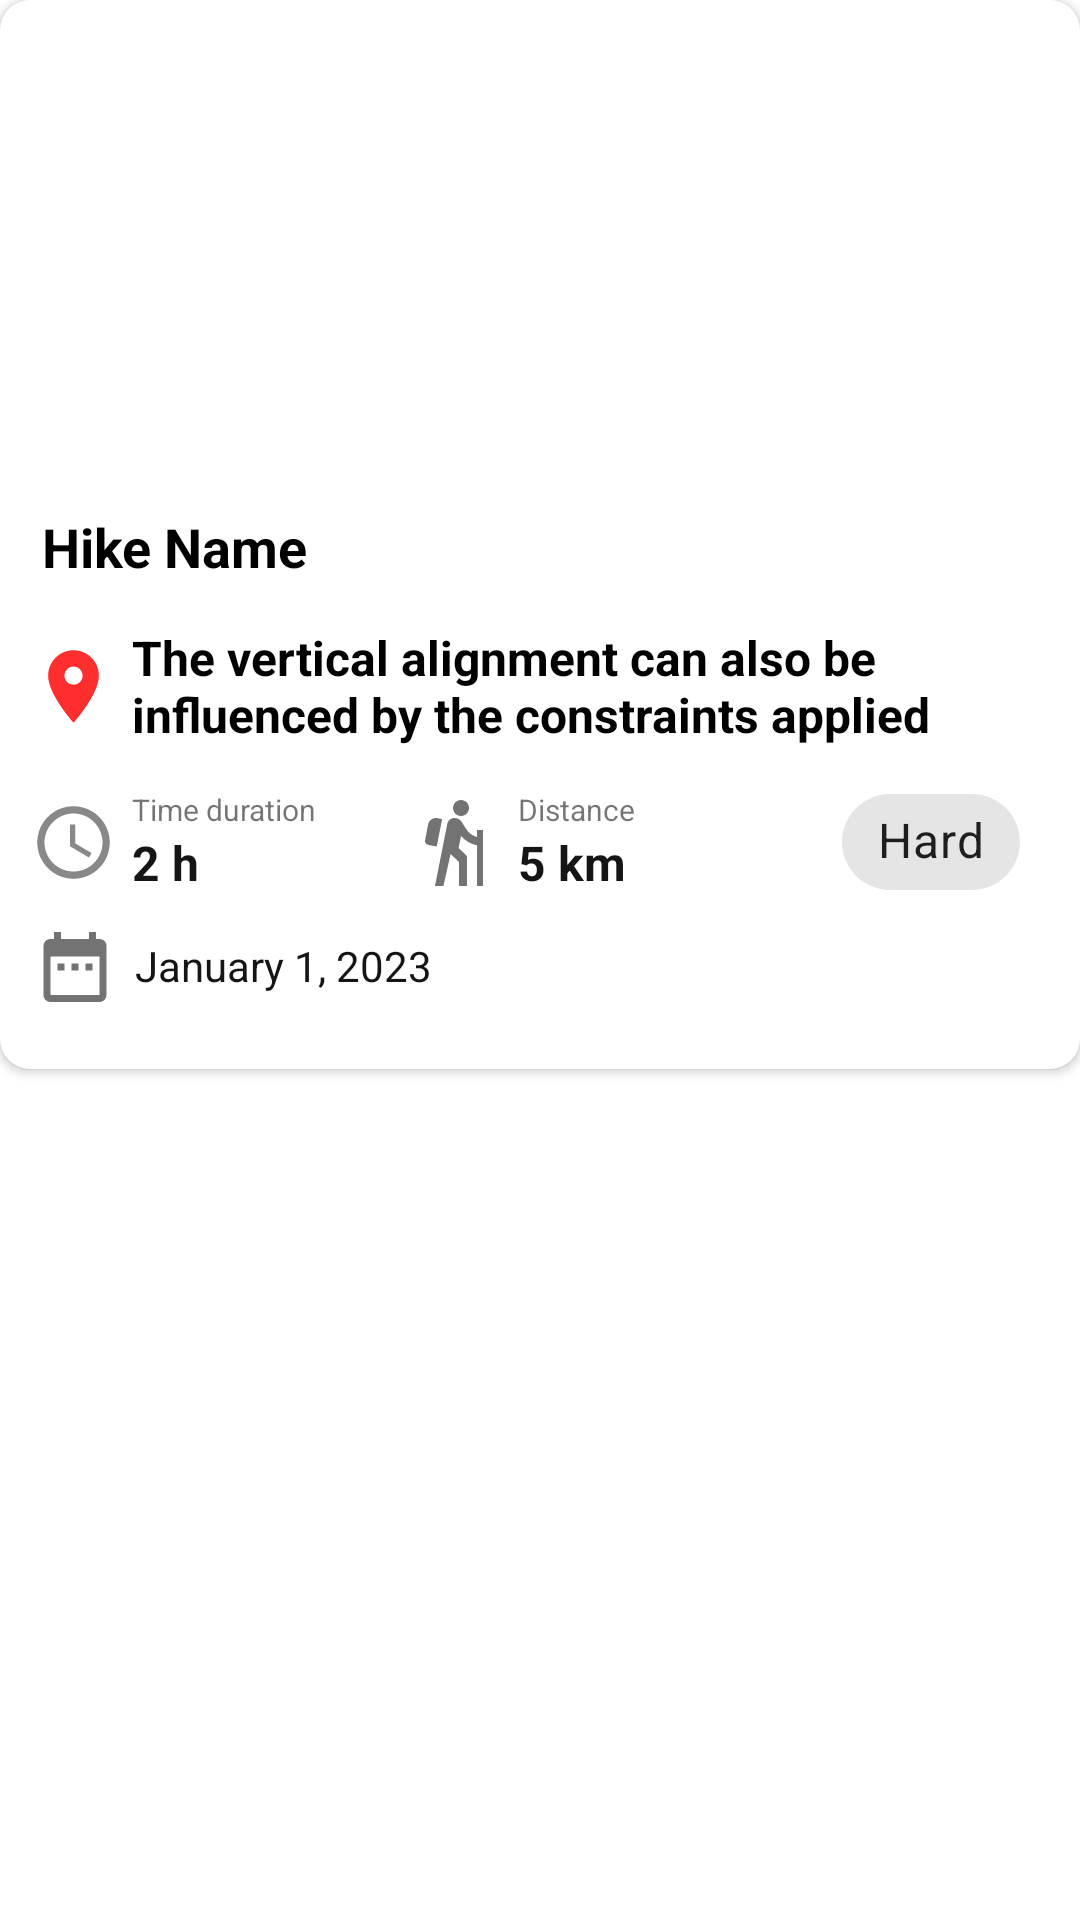

Icons on this 1080 × 1920 Android screen, each with its box as (x1, y1, x2, y2):
date range: (43, 932, 107, 1002)
hiking: (425, 800, 483, 886)
location on: (48, 650, 99, 723)
